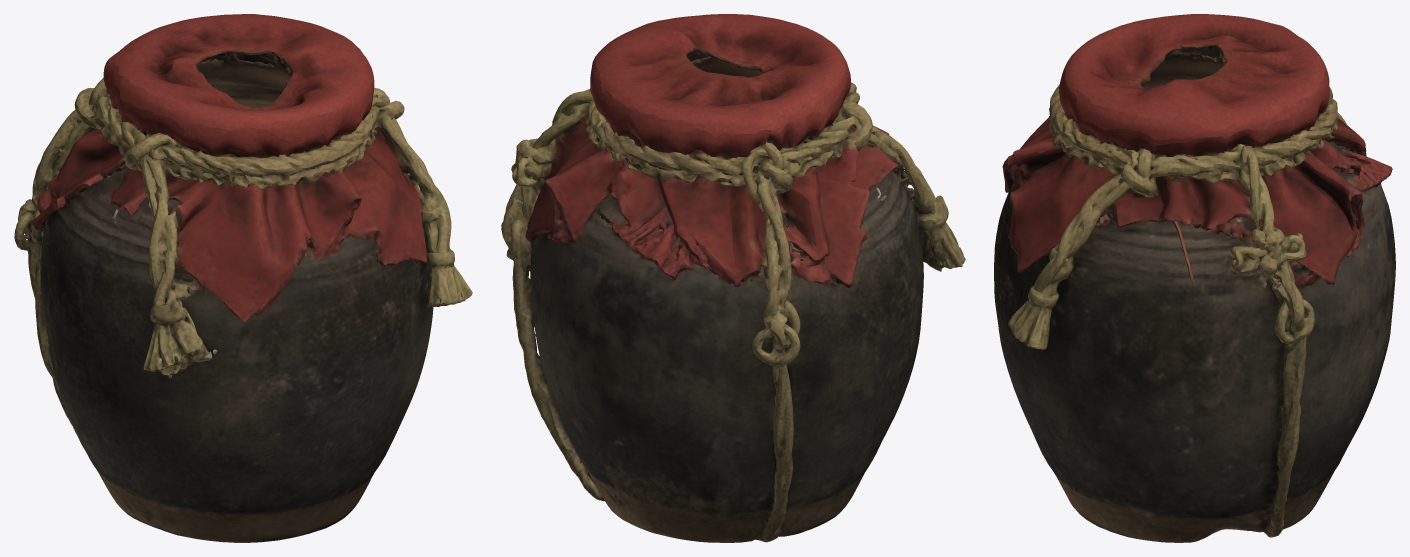
File: story-drunk.glb
3 renders of one model, left to right at view 1: azimuth 30°, elevation 25°; view 2: azimuth 150°, elevation 25°; view 3: azimuth 270°, elevation 25°, orthographic.
Parts seen in each view (by area): view 1: world; view 2: world; view 3: world.
Part boxes in pixels (box(x1,y1,x2,y2)): world: box(14, 14, 472, 542); world: box(501, 14, 965, 542); world: box(994, 14, 1395, 542).
Bounding box in the file's own units: 0.292 × 0.35 × 0.2882.
1 material, 1 textured.
